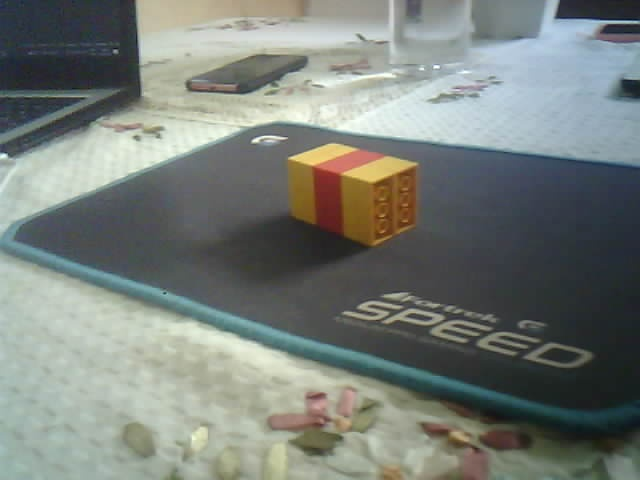lego: (285, 141, 421, 248)
